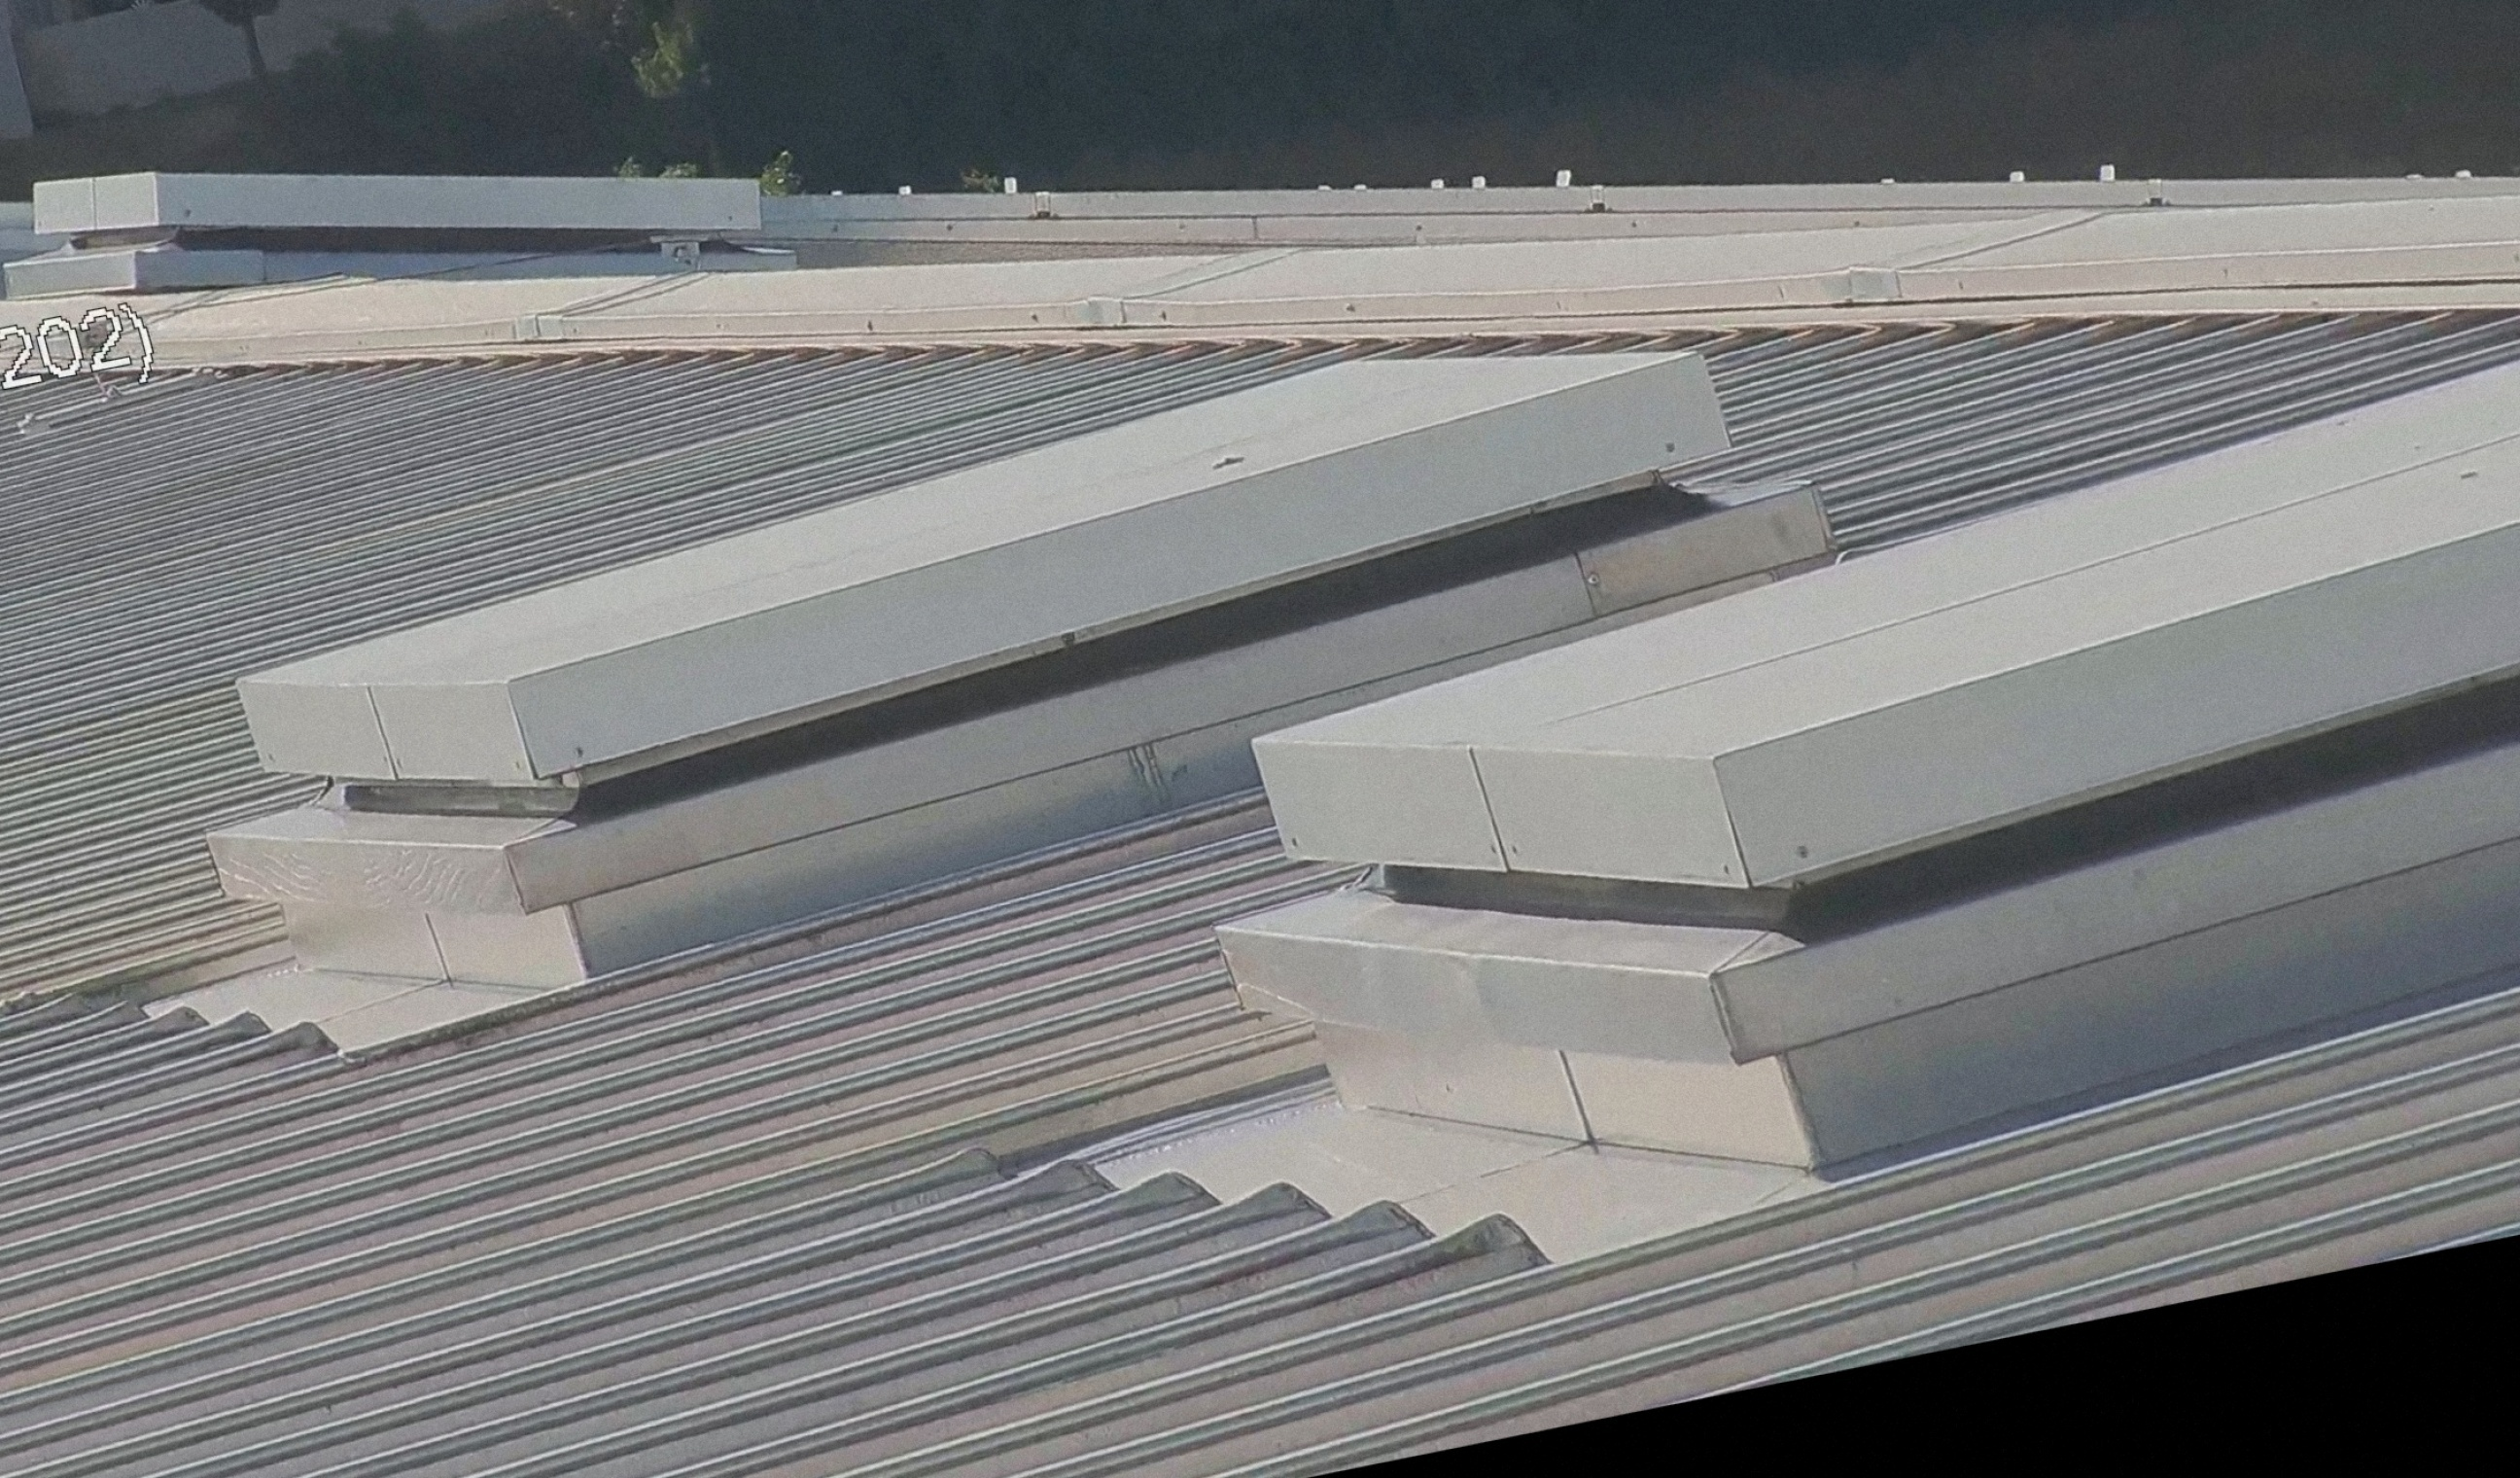Other: (70, 0, 408, 90)
